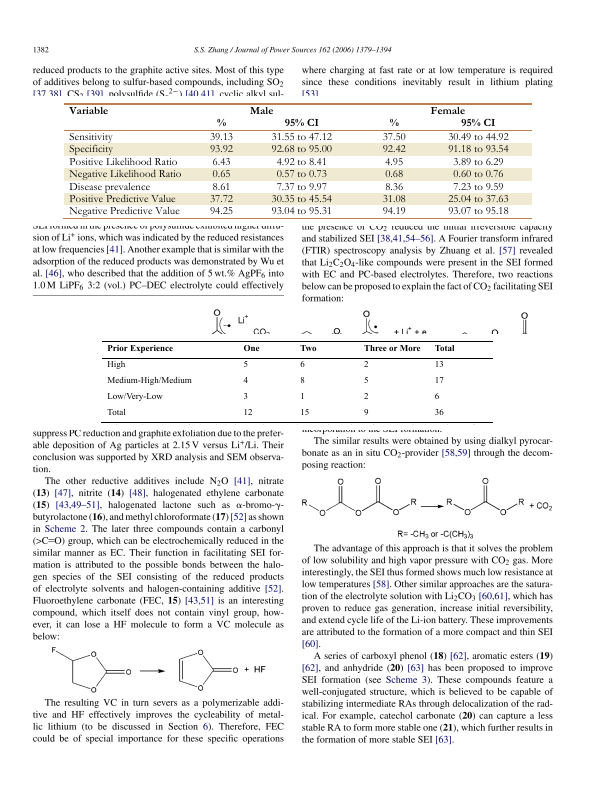borderless: (64, 101, 532, 218), (101, 339, 493, 422)
cell: (68, 169, 182, 181), (68, 206, 180, 218), (68, 156, 178, 168), (68, 194, 176, 206), (68, 181, 150, 193), (106, 376, 192, 386), (270, 132, 332, 144), (447, 132, 509, 144), (270, 144, 332, 156), (447, 144, 509, 156), (270, 194, 332, 206), (447, 194, 509, 206), (270, 206, 332, 218), (447, 206, 509, 218), (106, 343, 173, 353), (275, 156, 327, 168), (452, 156, 504, 168), (275, 169, 327, 181), (452, 169, 504, 181), (275, 181, 327, 193), (452, 181, 504, 193), (362, 343, 421, 353), (106, 392, 163, 402), (68, 132, 113, 144), (68, 144, 113, 156), (68, 105, 109, 115), (429, 105, 465, 115), (283, 118, 319, 127), (460, 118, 496, 127), (208, 132, 233, 144), (381, 132, 406, 144), (208, 144, 233, 156), (381, 144, 406, 156), (208, 194, 233, 206), (381, 194, 406, 206), (208, 206, 233, 218), (381, 206, 406, 218), (248, 105, 274, 115), (211, 156, 231, 168), (211, 169, 231, 181), (211, 181, 231, 193), (384, 156, 403, 168), (384, 169, 403, 181), (384, 181, 403, 193), (433, 343, 455, 353), (106, 360, 126, 370), (106, 408, 126, 418), (242, 343, 260, 353), (299, 343, 317, 353), (433, 360, 444, 370), (433, 376, 444, 386), (242, 408, 253, 418), (299, 408, 310, 418), (433, 408, 444, 418), (215, 118, 226, 127), (388, 118, 399, 127), (362, 360, 369, 370), (362, 376, 369, 386), (362, 392, 369, 402), (433, 392, 440, 402), (362, 408, 369, 418), (242, 360, 248, 370), (299, 360, 305, 370), (242, 376, 248, 386), (299, 376, 305, 386), (242, 392, 248, 402), (299, 392, 305, 402)
